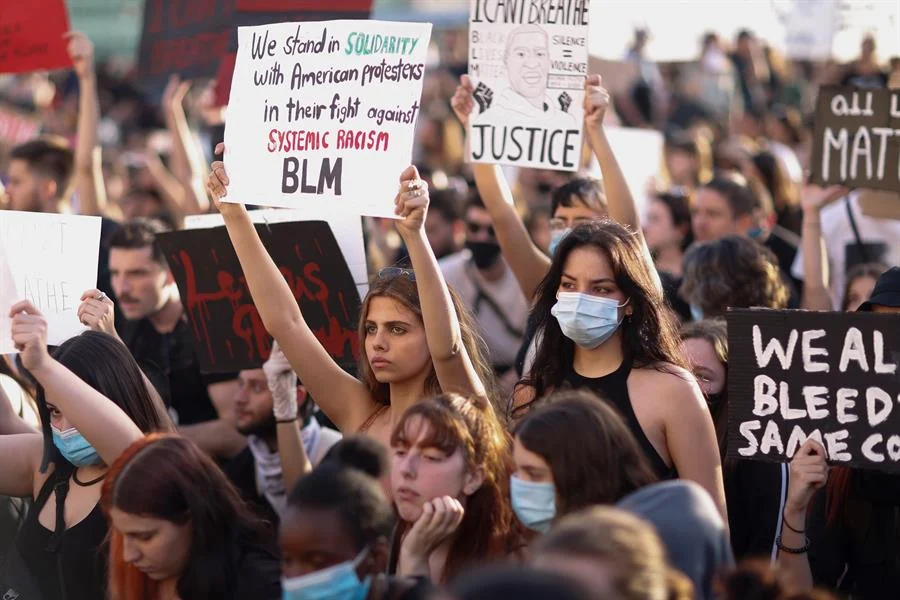with_mask: (276, 507, 386, 599), (550, 259, 631, 348), (50, 375, 114, 476), (508, 452, 566, 535)
without_mask: (387, 424, 478, 521), (111, 494, 200, 588), (358, 303, 425, 384), (225, 367, 292, 437), (109, 250, 175, 320)
